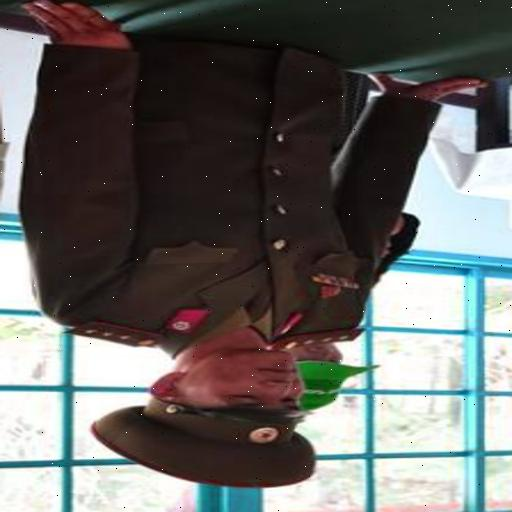north army: (15, 9, 424, 505)
